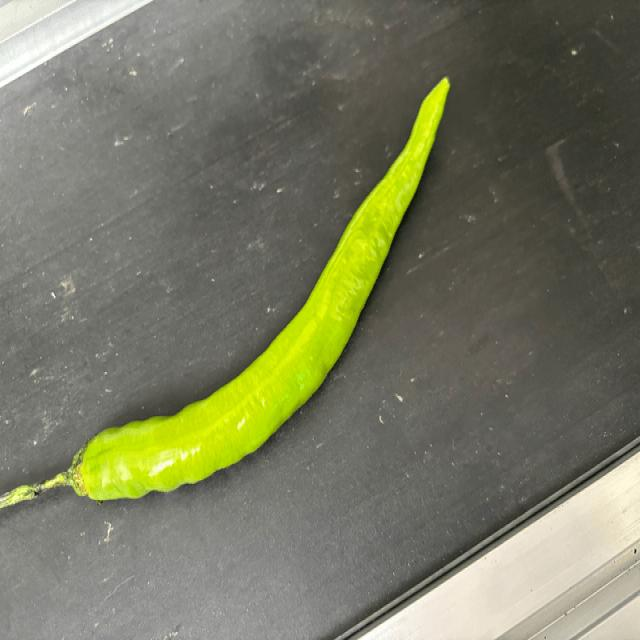chili: (65, 71, 454, 502)
